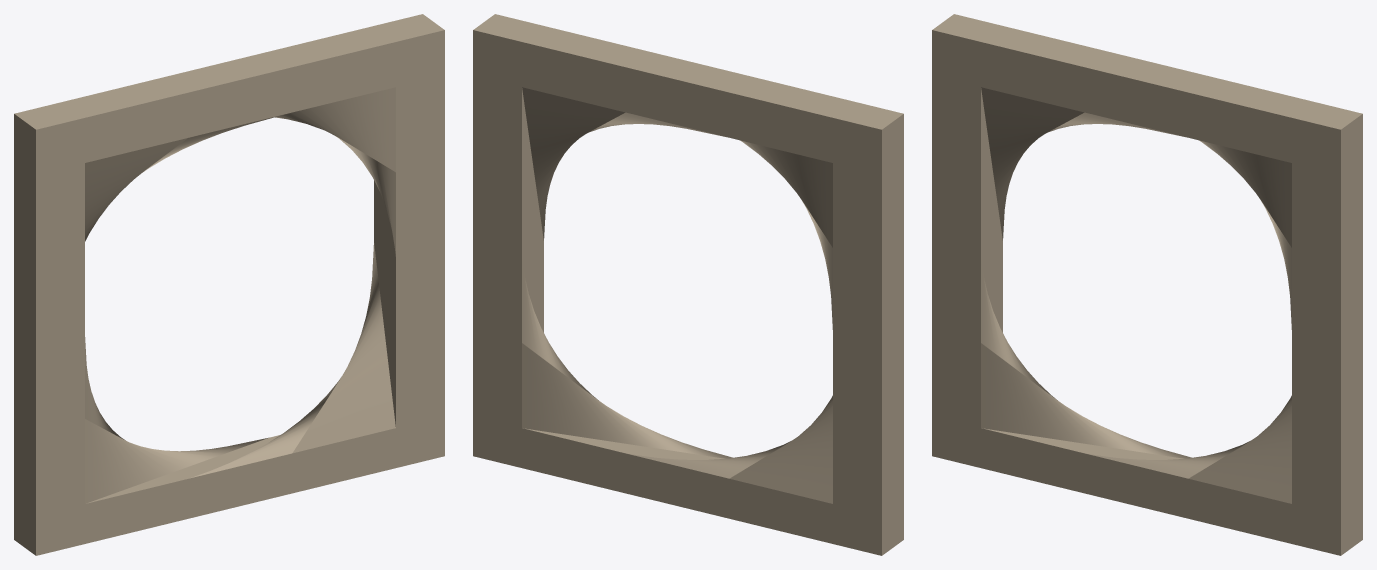
Rendered from Hole0.fbx.
3 views of the same model, side by side, from view 1: azimuth 30°, elevation 25°; view 2: azimuth 150°, elevation 25°; view 3: azimuth 330°, elevation 25° (orthographic).
Visible parts, largest first — view 1: Hole0; view 2: Hole0; view 3: Hole0.
Boxes of the visible parts, box(x1,y1,x2,y2) form: Hole0: box(14, 14, 444, 555); Hole0: box(473, 14, 903, 555); Hole0: box(932, 14, 1362, 555).
Size of the model in its own units: 10.75 by 10.72 by 1.
